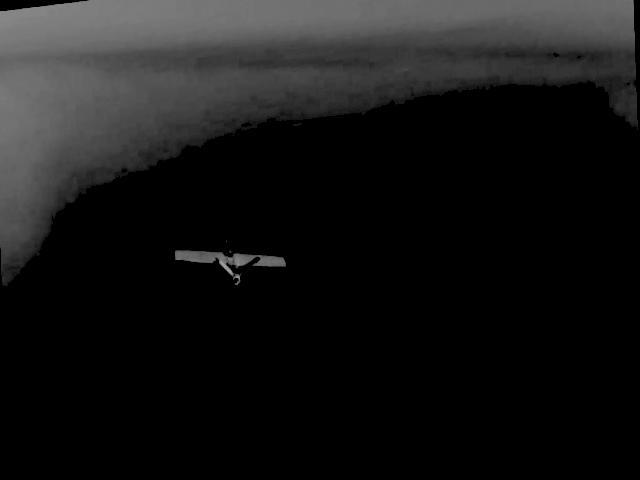hedef: (132, 205, 333, 331)
